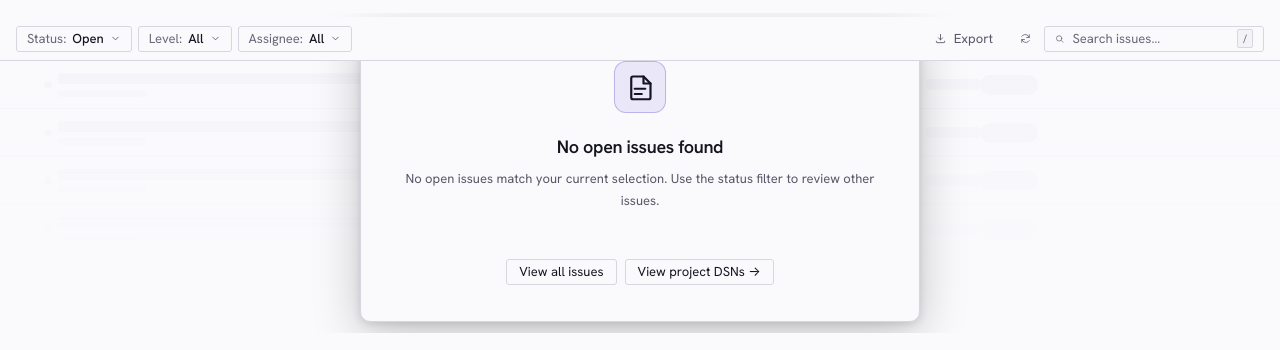
Test: IssueListView › assignee dropdown › opens assignee dropdown when filterchip button is clicked
Click the button with class "filterchip" showing "Status: Open": point(74, 38) [16, 26, 132, 52]
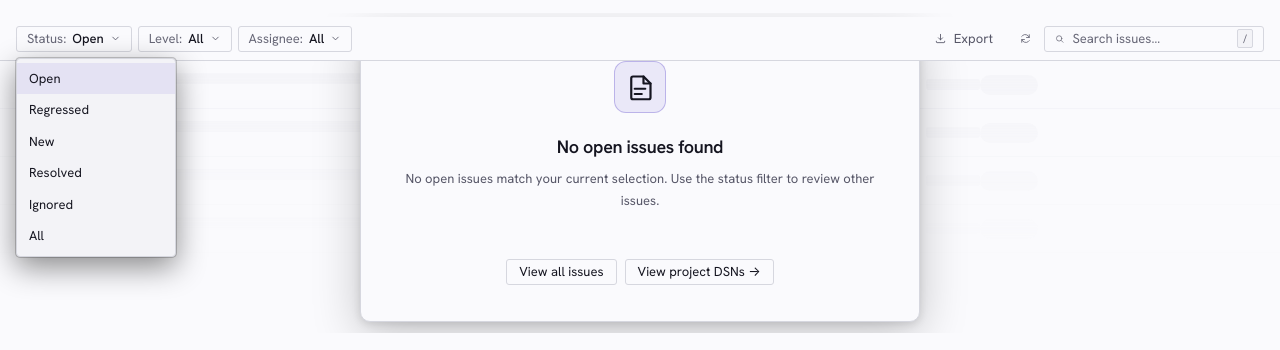
Expected: the element showing "Open Regressed New Resolved Ignored All" is shown, [16, 58, 176, 256]
